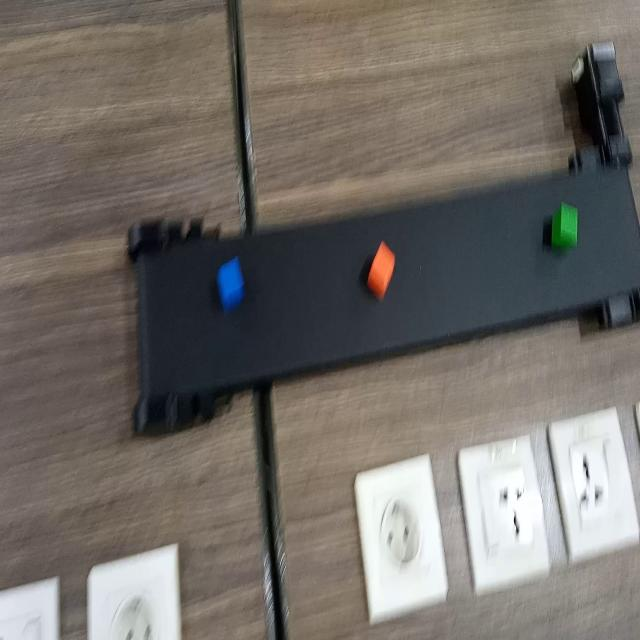cube: (548, 195, 587, 257), (216, 253, 250, 312)
